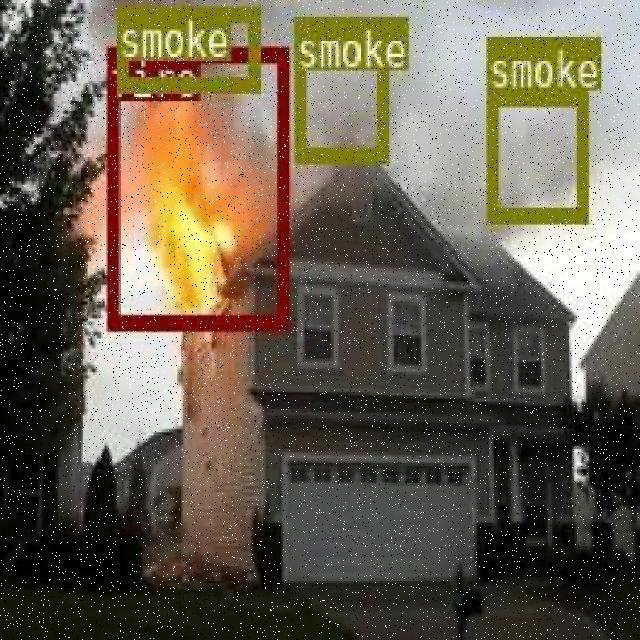Smoke: (293, 46, 386, 129), (483, 55, 585, 124), (87, 4, 157, 88)
